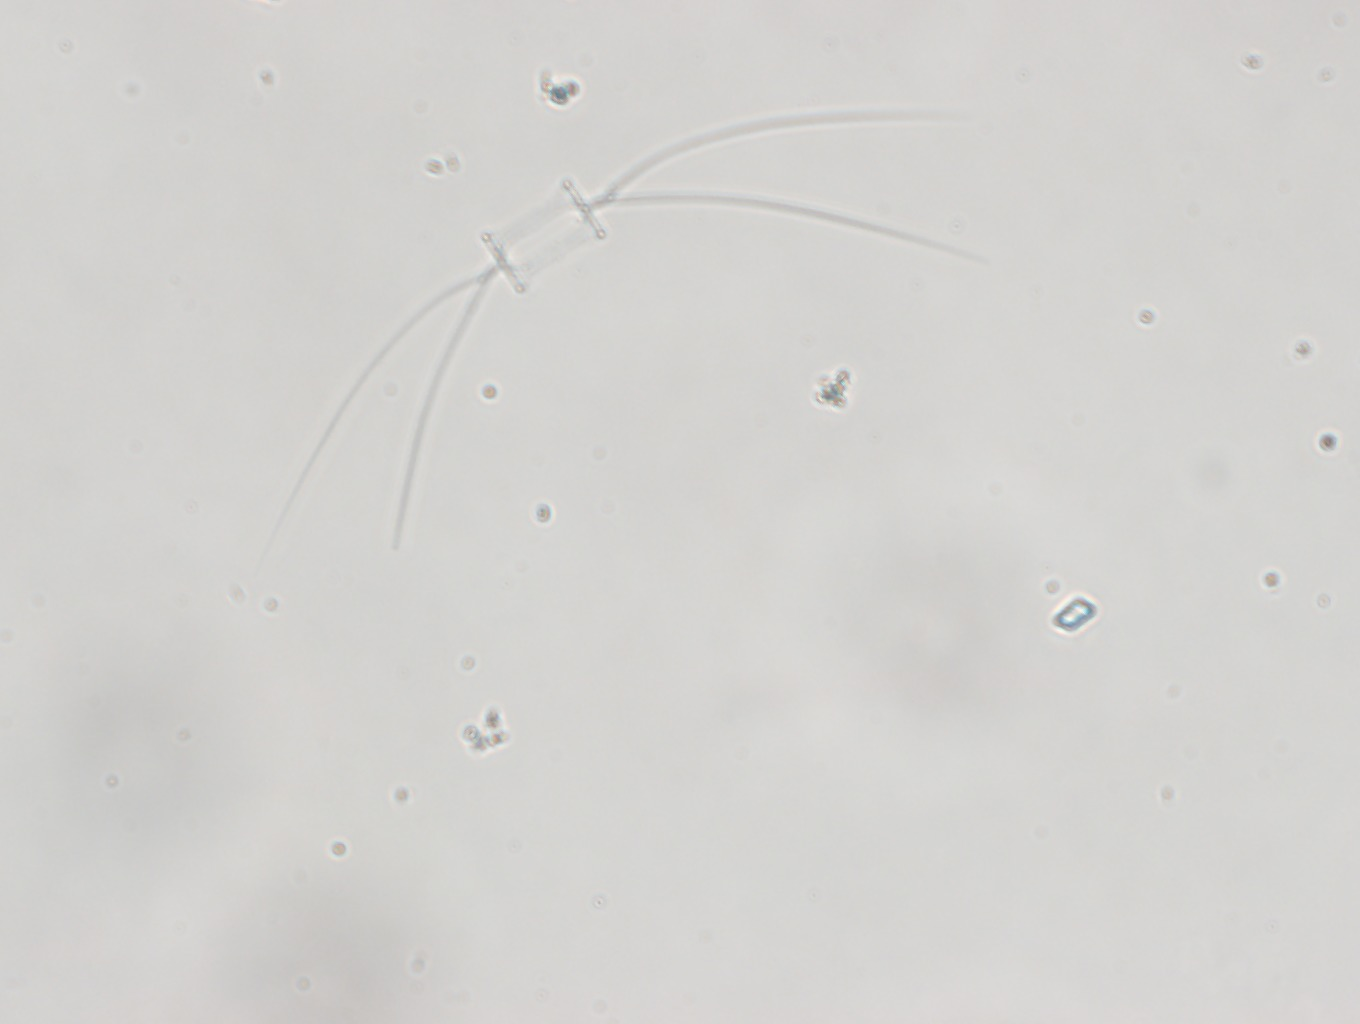chaetoceros: (256, 104, 990, 555)
